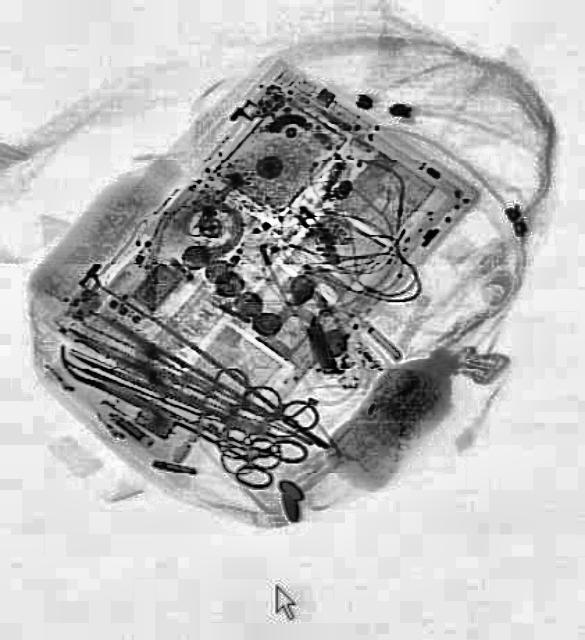Scissors: (171, 392, 309, 502)
